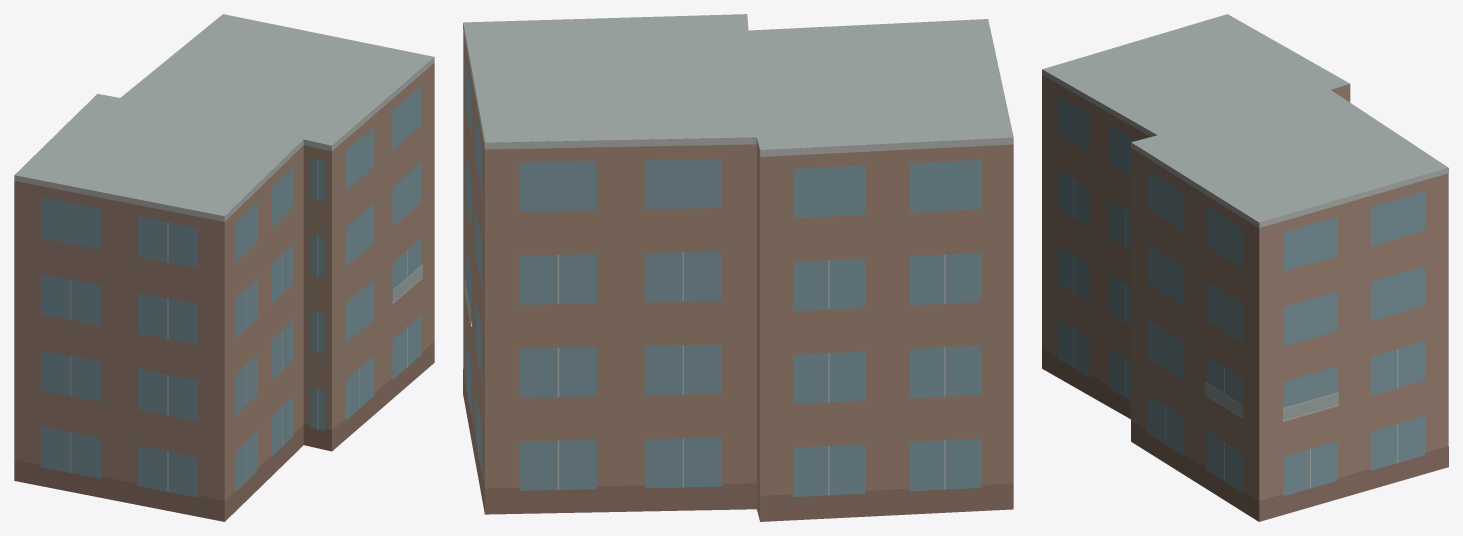
File: survey-upis-32774618.glb
The picture shows the model from 3 angles, left to right: view 1: azimuth 30°, elevation 25°; view 2: azimuth 150°, elevation 25°; view 3: azimuth 270°, elevation 25°; orthographic projection. The views are drawn at different scales.
Parts seen in each view (by area): view 1: survey-upis-32774618.tmp; view 2: survey-upis-32774618.tmp; view 3: survey-upis-32774618.tmp.
Boxes of the visible parts, x1,y1,x2,y2 form: survey-upis-32774618.tmp: (14, 14, 434, 521); survey-upis-32774618.tmp: (463, 14, 1013, 521); survey-upis-32774618.tmp: (1042, 14, 1448, 521).
Bounding box in the file's own units: 19.73 × 13.2 × 16.26.
